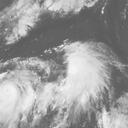cyclone: (57, 44, 109, 103), (1, 83, 22, 121)
